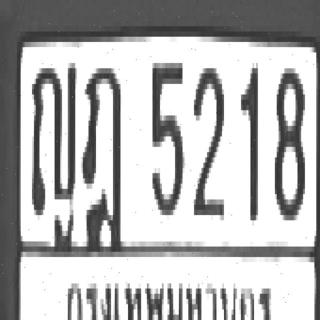A13: (30, 58, 75, 215)
A14: (81, 60, 122, 249)
N01: (239, 58, 256, 215)
N02: (192, 58, 222, 215)
N05: (150, 58, 182, 210)
N08: (273, 63, 303, 215)
